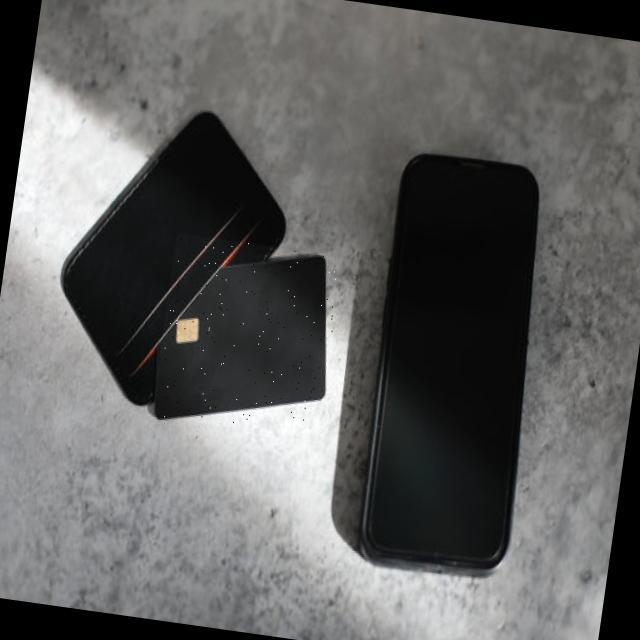payment_card: (152, 253, 327, 420)
